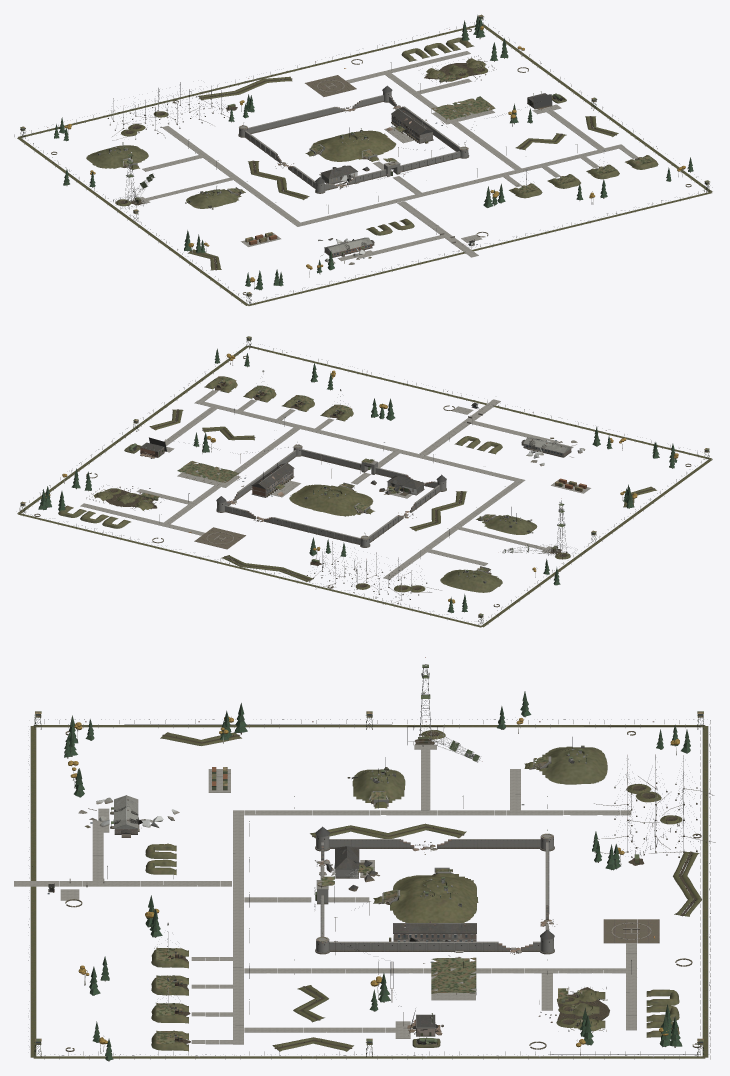
Rendered from site_cp_a.glb.
The picture shows the model from 3 angles, top to bottom: view 1: azimuth 30°, elevation 25°; view 2: azimuth 150°, elevation 25°; view 3: azimuth 270°, elevation 25°; orthographic projection. The views are drawn at different scales.
Parts seen in each view (by area): view 1: deco|F_A, deco|tile_conc, deco_trees|F_A, b_bunker1|F_A, b_bunker2|F_A, b_comms|F_A, b_ammo_ruin|F_B, b_hq|F_A, b_barracks|F_A, b_antenna_ruin|F_B; view 2: deco|F_A, deco|tile_conc, deco_trees|F_A, b_bunker1|F_A, b_bunker2|F_A, b_comms|F_A, b_ammo_ruin|F_B, b_hq|F_A, b_barracks|F_A, b_antenna_ruin|F_B, b_hq_ruin|F_B, b_barracks_ruin|F_B (+1 smaller); view 3: deco|F_A, deco|tile_conc, deco_trees|F_A, b_bunker1|F_A, b_bunker2|F_A, b_comms|F_A, b_hq|F_A, b_ammo_ruin|F_B, b_antenna_ruin|F_B, b_barracks_ruin|F_B, b_barracks|F_A, b_store|F_A (+4 smaller).
Part boxes in pixels (<box>): deco|F_A: <box>14,14,712,305</box>; deco|tile_conc: <box>139,51,637,261</box>; deco_trees|F_A: <box>54,15,693,290</box>; b_bunker1|F_A: <box>308,127,396,161</box>; b_bunker2|F_A: <box>86,142,148,168</box>; b_comms|F_A: <box>185,186,244,209</box>; b_ammo_ruin|F_B: <box>424,59,496,81</box>; b_hq|F_A: <box>391,108,433,143</box>; b_barracks|F_A: <box>324,237,374,257</box>; b_antenna_ruin|F_B: <box>111,86,237,140</box>; deco|F_A: <box>17,336,712,627</box>; deco|tile_conc: <box>80,390,590,579</box>; deco_trees|F_A: <box>38,348,678,613</box>; b_bunker1|F_A: <box>289,482,373,516</box>; b_bunker2|F_A: <box>440,566,502,592</box>; b_comms|F_A: <box>478,507,537,534</box>; b_ammo_ruin|F_B: <box>89,486,160,509</box>; b_hq|F_A: <box>252,463,294,497</box>; b_barracks|F_A: <box>521,437,571,457</box>; b_antenna_ruin|F_B: <box>310,549,441,604</box>; b_hq_ruin|F_B: <box>237,463,299,497</box>; b_barracks_ruin|F_B: <box>523,437,585,466</box>; deco|F_A: <box>28,711,710,1059</box>; deco|tile_conc: <box>14,744,636,1044</box>; deco_trees|F_A: <box>64,691,690,1061</box>; b_bunker1|F_A: <box>377,867,478,922</box>; b_bunker2|F_A: <box>528,737,607,784</box>; b_comms|F_A: <box>347,757,405,805</box>; b_hq|F_A: <box>389,923,476,941</box>; b_ammo_ruin|F_B: <box>538,987,609,1032</box>; b_antenna_ruin|F_B: <box>593,774,715,865</box>; b_barracks_ruin|F_B: <box>78,795,179,837</box>; b_barracks|F_A: <box>110,795,138,837</box>; b_store|F_A: <box>335,846,369,878</box>.
Bounding box in the file's own units: 441 × 47.7 × 375.
Materials: 45 (34 with a texture image).
